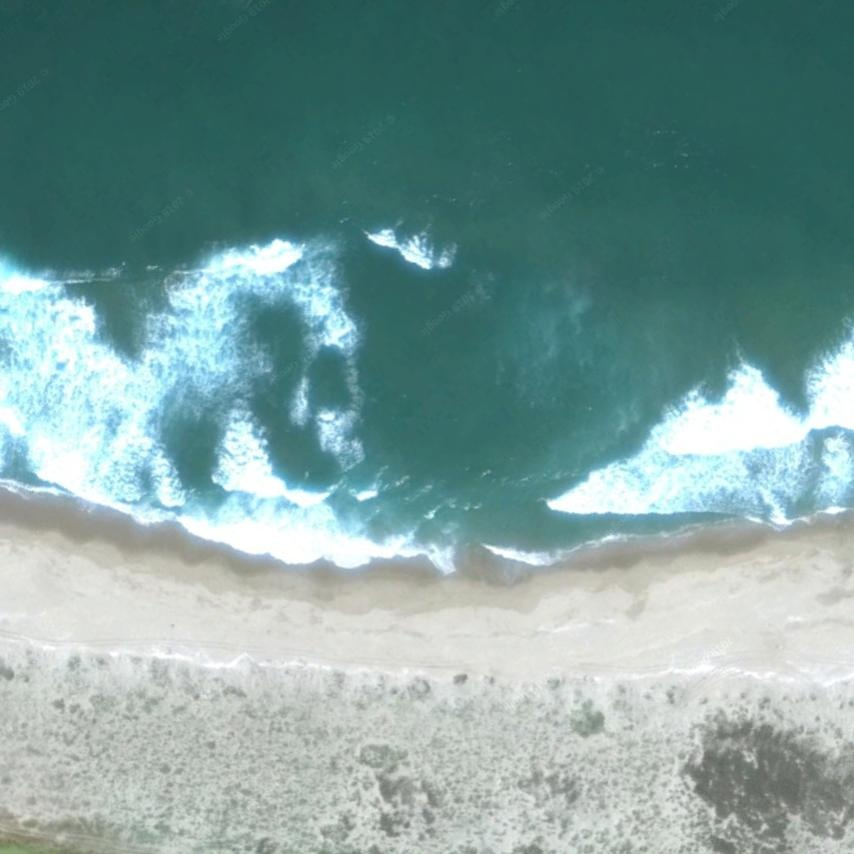rip_current: (312, 234, 646, 518)
